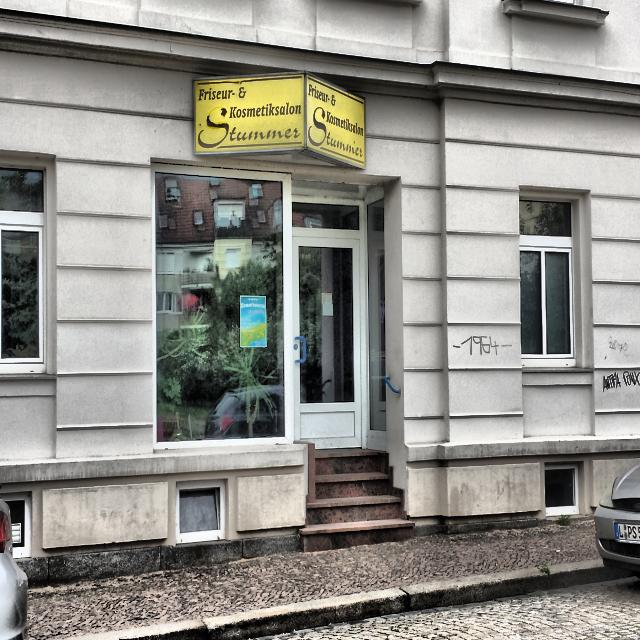escada: (294, 449, 415, 546)
